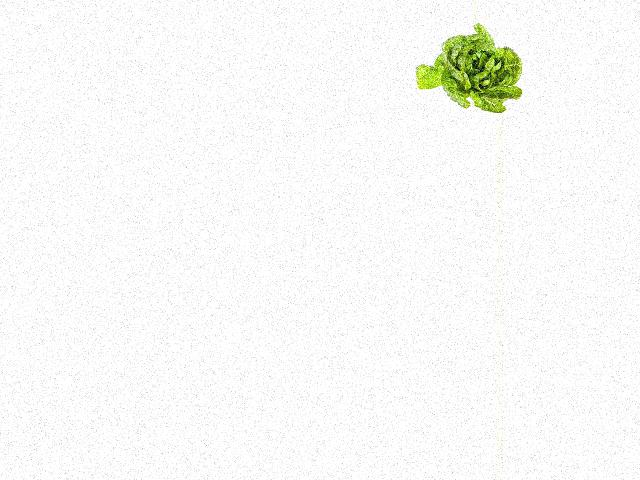lettuce: (412, 23, 523, 110)
